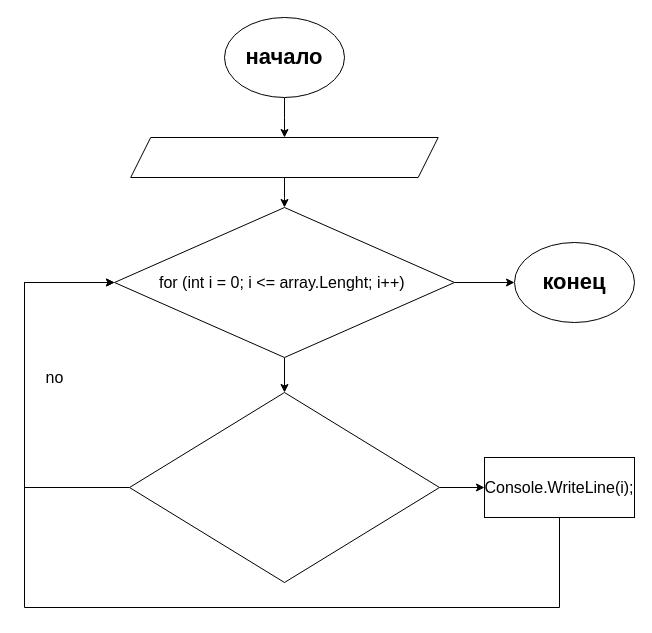
The diagram is 652 pixels wide and 633 high, and some of its shapes have lost their labels. Each missing label, with the box of its shape:
if (array[i].Lenght <= 3): (128, 392, 440, 582)
var array = ["hello", "2", "world", ":-)"]: (130, 136, 438, 178)
